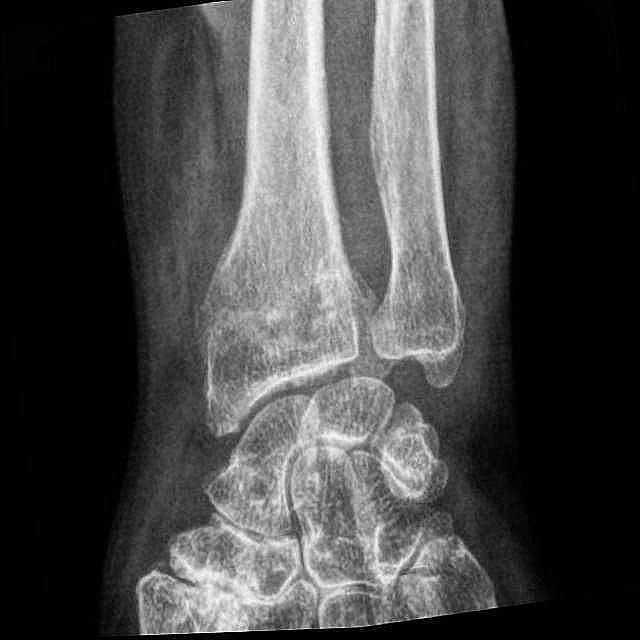bone: (190, 168, 366, 438)
